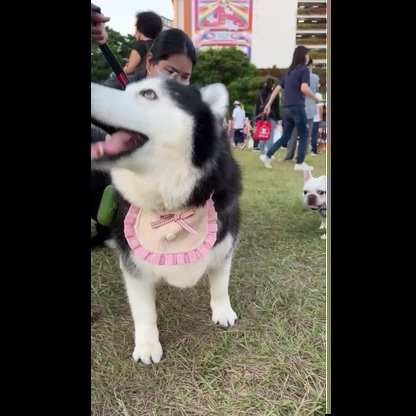husky: (95, 70, 251, 372)
